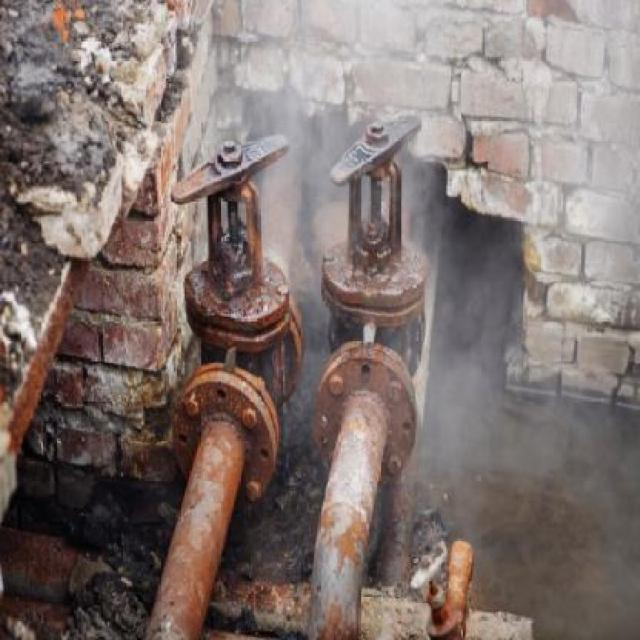corrosion: (0, 4, 533, 640)
